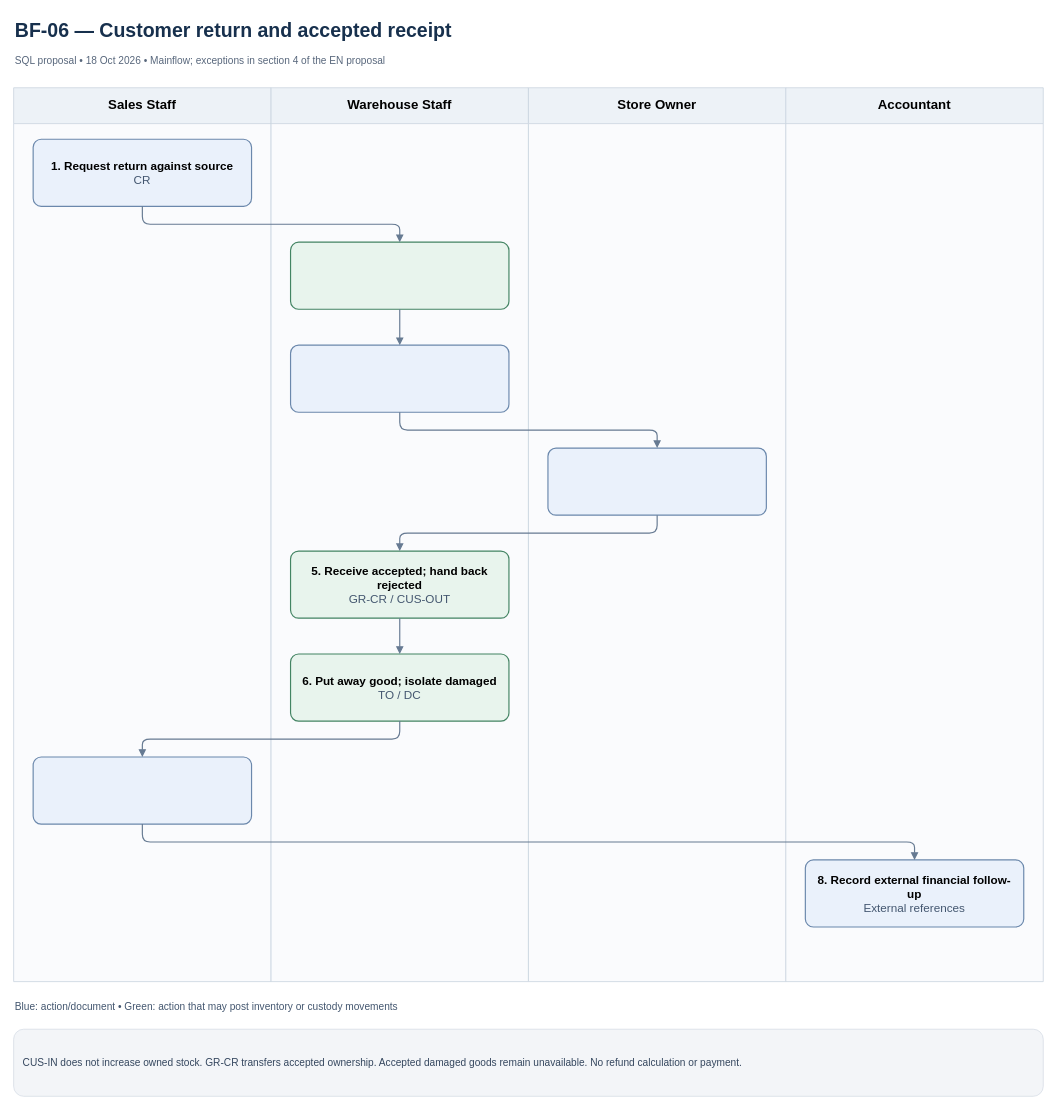
Some shapes in this 1057 by 1110 pixel diagram are drawn without their labels. The centre of each missing label's shape, as x and y in pixels:
"2. Take custody pending decision CUS-IN" goes at pixel 399 275.
"3. Inspect lot, quality and quantity INS" goes at pixel 399 378.
"4. Accept/reject by quantity Approval" goes at pixel 657 481.
"7. Communicate warehouse outcome CR warehouse status" goes at pixel 142 790.
